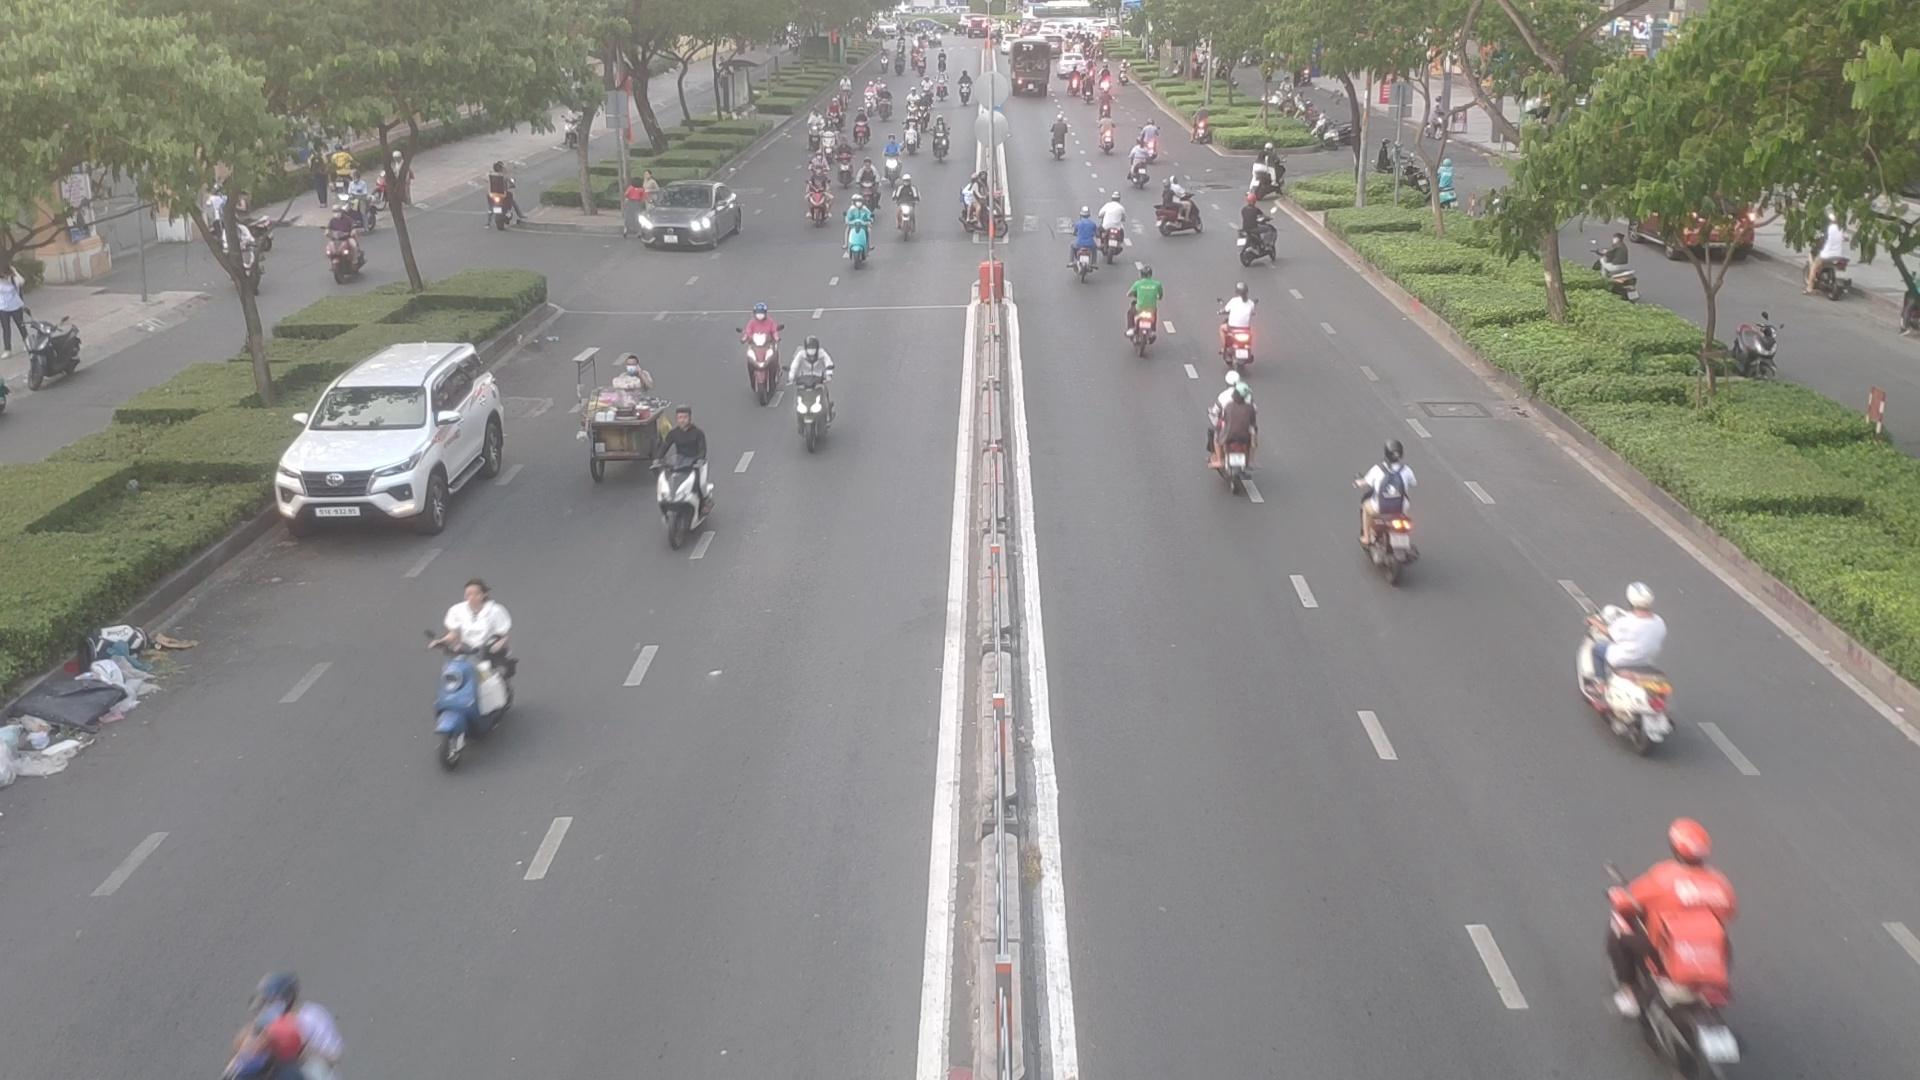car: (278, 339, 520, 527), (626, 186, 756, 255)
motorbike: (1597, 833, 1764, 1077), (1573, 588, 1688, 750), (435, 585, 527, 750), (210, 976, 347, 1080), (1348, 444, 1424, 571), (646, 407, 719, 539), (777, 335, 847, 450), (1203, 384, 1273, 493), (741, 299, 786, 409), (1125, 269, 1175, 356), (1218, 286, 1266, 372), (1065, 207, 1120, 282), (963, 175, 1017, 245), (1237, 199, 1280, 266), (1156, 186, 1203, 241), (844, 187, 873, 272), (893, 170, 926, 241), (808, 160, 836, 231), (1127, 146, 1155, 189)
